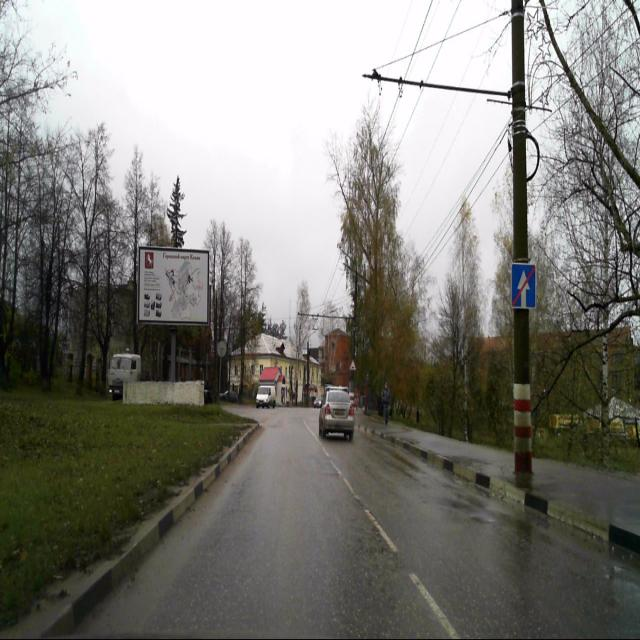road sign: (510, 262, 536, 311)
